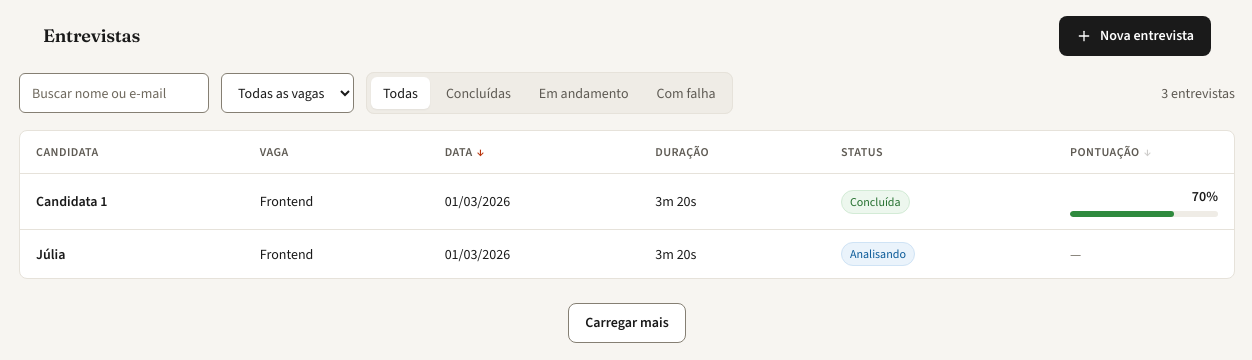
Test: busca filtra o que foi carregado
The image size is (1252, 360).
Check: the table is shown, box [20, 131, 1234, 278]
Type "júl" into the search field named "Buscar por nome ou e-mail" at (114, 93), box [19, 73, 209, 113]
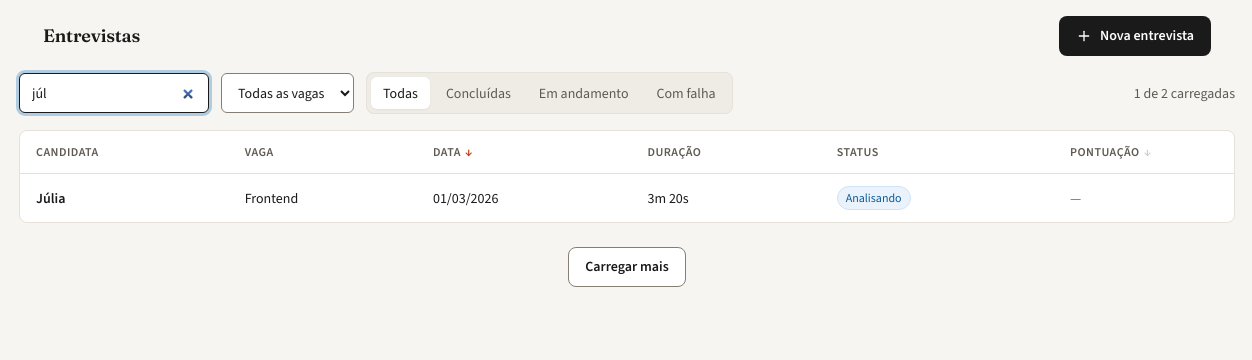
Check: the link "Júlia" is shown, box [36, 188, 65, 208]
Check: the link "Candidata 1" is gone
Check: the text "1 de 2 carregadas" is shown, box [1134, 82, 1235, 104]
